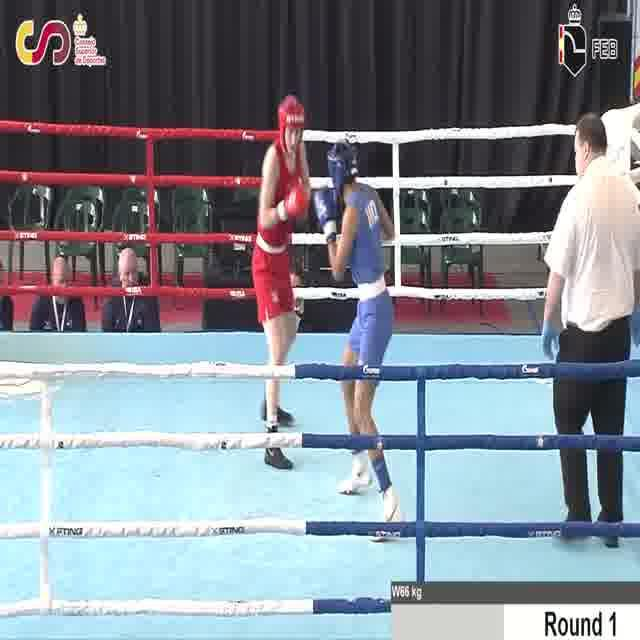blue-player: (312, 133, 406, 543)
red-player: (250, 92, 318, 474)
referee: (540, 109, 640, 551)
